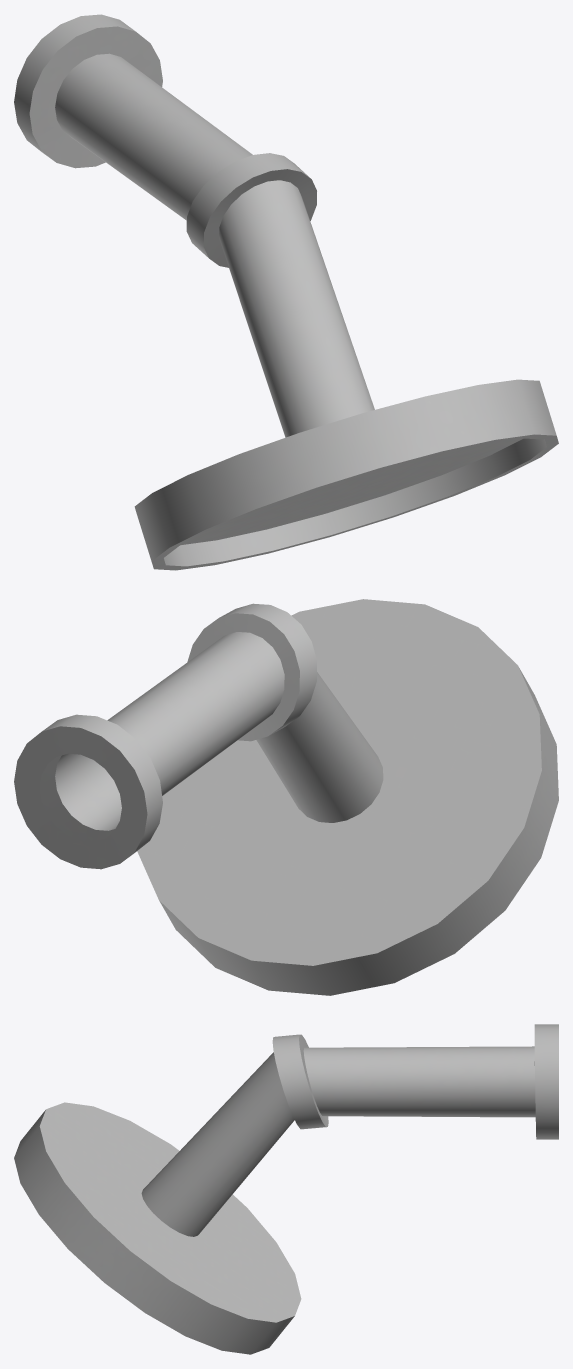
File: SM_Shower_Head.fbx
3 renders of one model, top to bottom at view 1: azimuth 30°, elevation 25°; view 2: azimuth 150°, elevation 25°; view 3: azimuth 270°, elevation 25°, orthographic. The views are drawn at different scales.
Parts seen in each view (by area): view 1: SM_Shower_Head_LOD0; view 2: SM_Shower_Head_LOD0; view 3: SM_Shower_Head_LOD0.
Part boxes in pixels (x1,y1,x2,y2): SM_Shower_Head_LOD0: (14,14,558,570); SM_Shower_Head_LOD0: (14,599,558,995); SM_Shower_Head_LOD0: (14,1024,558,1354).
Bounding box in the file's own units: 27.32 × 45.97 × 28.08.
1 material, 1 textured.
